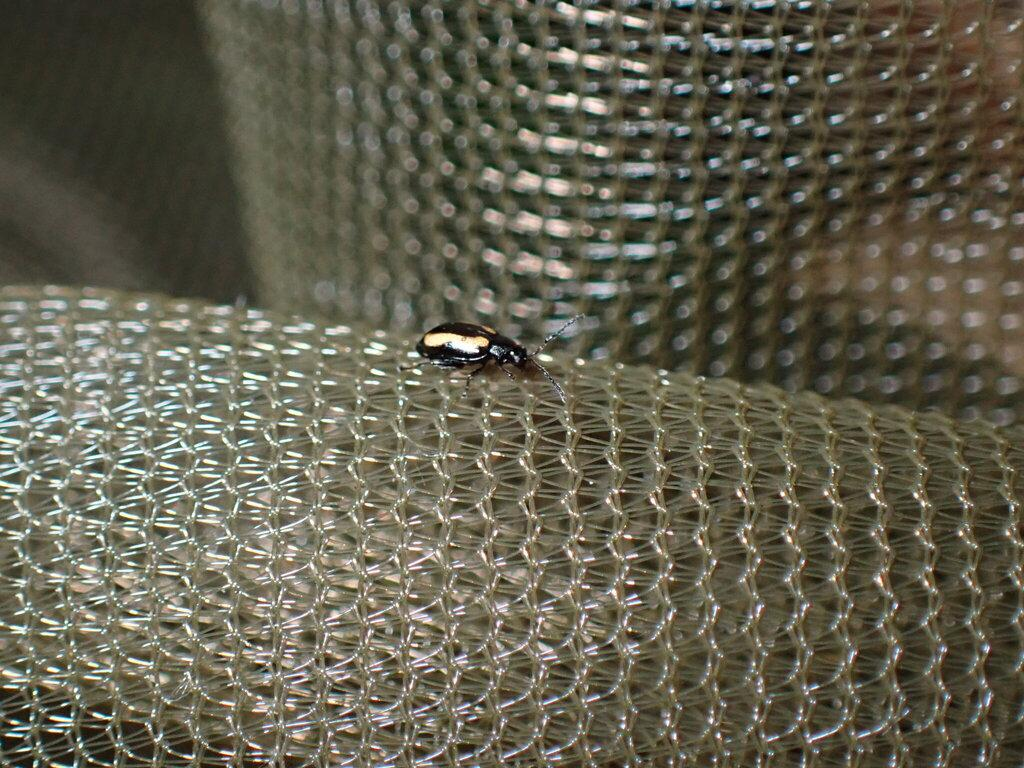flea_beetle: (378, 291, 600, 431)
